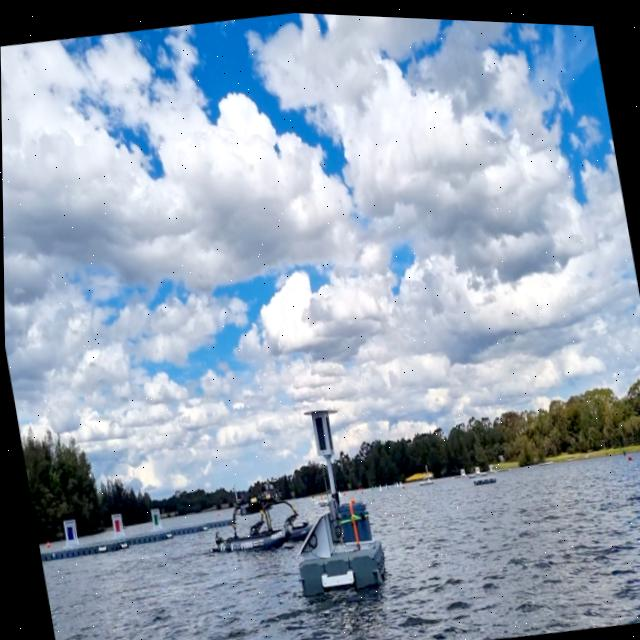led: (312, 412, 328, 452)
